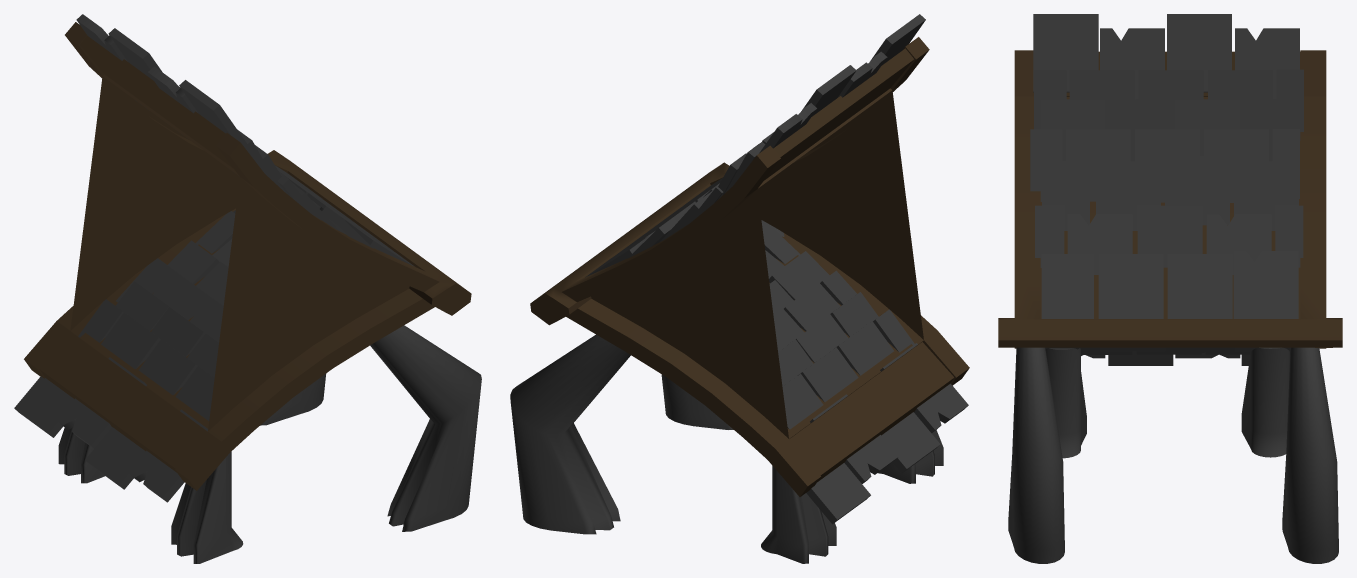
File: UnityModel_Roof.fbx
3 renders of one model, left to right at view 1: azimuth 30°, elevation 25°; view 2: azimuth 150°, elevation 25°; view 3: azimuth 270°, elevation 25°, orthographic. The views are drawn at different scales.
Visible parts, largest first — view 1: pasted__pasted__pCube3, pasted__pCylinder1 (×2), pCylinder1, pasted__pasted__pCylinder1; view 2: pasted__pasted__pCube3, pasted__pasted__pCylinder1, pasted__pCylinder1 (×2), pCylinder1; view 3: pasted__pasted__pCube3, pasted__pCylinder1 (×2), pasted__pasted__pCylinder1, pCylinder1.
Part boxes in pixels (x1,y1,x2,y2): pasted__pasted__pCube3: (14, 14, 471, 502); pasted__pCylinder1 (×2): (58, 325, 481, 531); pCylinder1: (171, 451, 243, 563); pasted__pasted__pCylinder1: (233, 210, 326, 425); pasted__pasted__pCube3: (530, 14, 969, 524); pasted__pasted__pCylinder1: (510, 334, 630, 534); pasted__pCylinder1 (×2): (661, 220, 836, 563); pCylinder1: (878, 430, 943, 483); pasted__pasted__pCube3: (998, 14, 1342, 365); pasted__pCylinder1 (×2): (1008, 347, 1289, 563); pasted__pasted__pCylinder1: (1282, 347, 1338, 563); pCylinder1: (1045, 348, 1086, 458).
Bounding box in the file's own units: 5.44 × 7.37 × 5.29.
